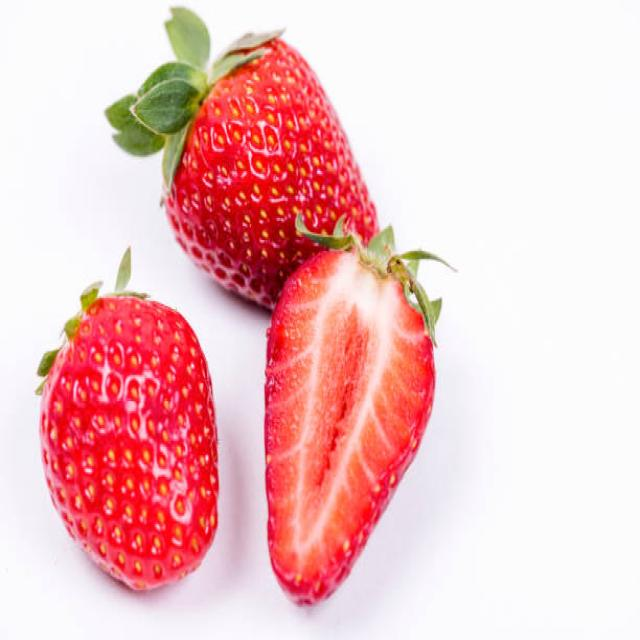Healthy Fruit: (263, 245, 437, 605), (165, 39, 380, 309), (40, 297, 220, 592)
